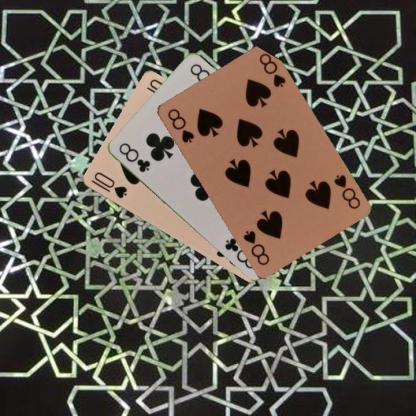10s: (88, 169, 128, 200)
8c: (116, 140, 152, 174)
8s: (164, 106, 195, 144), (331, 172, 362, 210)
